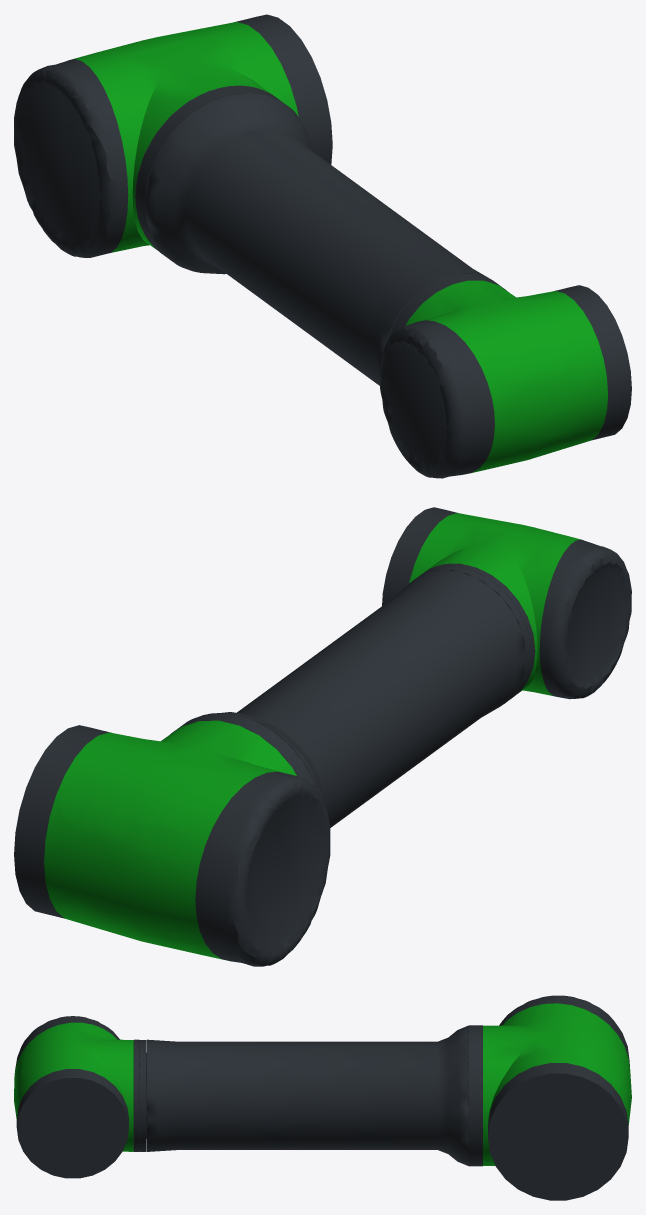
3 renders of one model, top to bottom at view 1: azimuth 30°, elevation 25°; view 2: azimuth 150°, elevation 25°; view 3: azimuth 270°, elevation 25°, orthographic. The views are drawn at different scales.
Visible parts, largest first — view 1: Link_2; view 2: Link_2; view 3: Link_2.
Boxes of the visible parts, box(x1,y1,x2,y2) form: Link_2: box(14, 14, 631, 478); Link_2: box(14, 507, 631, 966); Link_2: box(14, 995, 631, 1200).
Bounding box in the file's own units: 0.1991 × 0.1549 × 0.6494.
